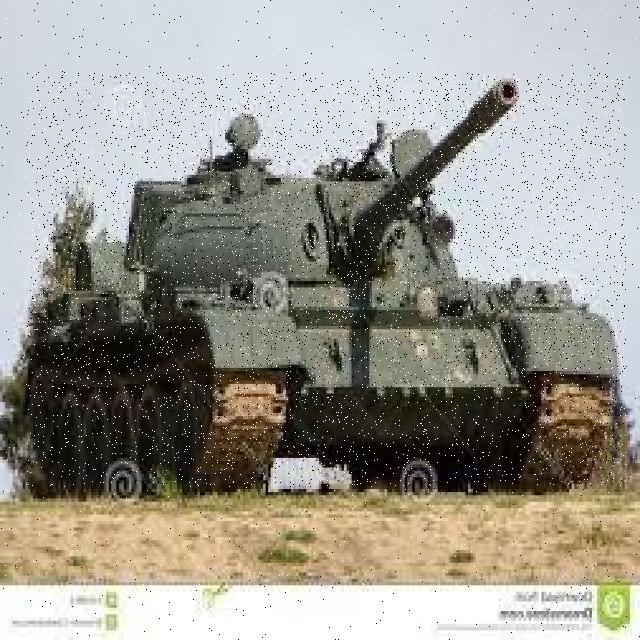MIL_MBT: (27, 74, 626, 487)
